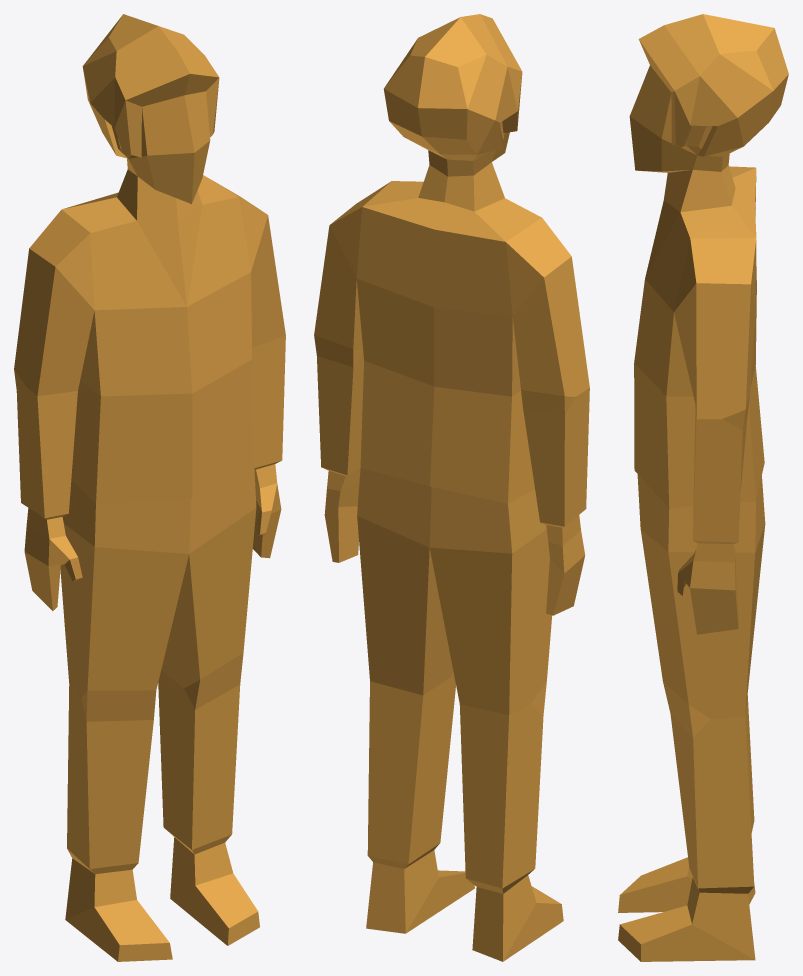
Rendered from man-pedestrian-rival-young.fbx.
3 views of the same model, side by side, from view 1: azimuth 30°, elevation 25°; view 2: azimuth 150°, elevation 25°; view 3: azimuth 270°, elevation 25° (orthographic).
Parts seen in each view (by area): view 1: man-pedestrian-rival-young; view 2: man-pedestrian-rival-young; view 3: man-pedestrian-rival-young.
Part boxes in pixels (x1,y1,x2,y2): man-pedestrian-rival-young: (14, 14, 285, 961); man-pedestrian-rival-young: (314, 14, 589, 961); man-pedestrian-rival-young: (618, 14, 788, 961).
Size of the model in its own units: 0.5438 by 1.87 by 0.318.
